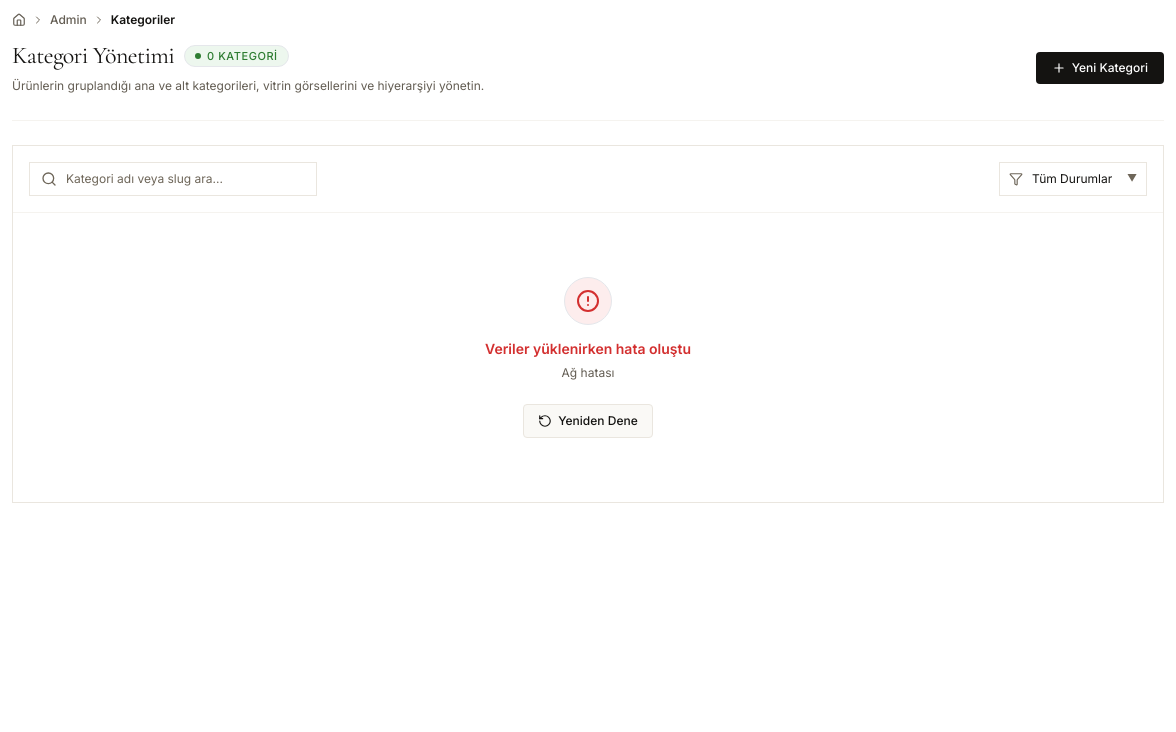
Scenario: AdminCategoriesPage Component (Phase 2.4) › renders error state and retries fetching on button click
Expected: the text "Ağ hatası" is shown, [562, 364, 614, 380]
Click the button "Yeniden Dene": (588, 421) [523, 404, 653, 438]
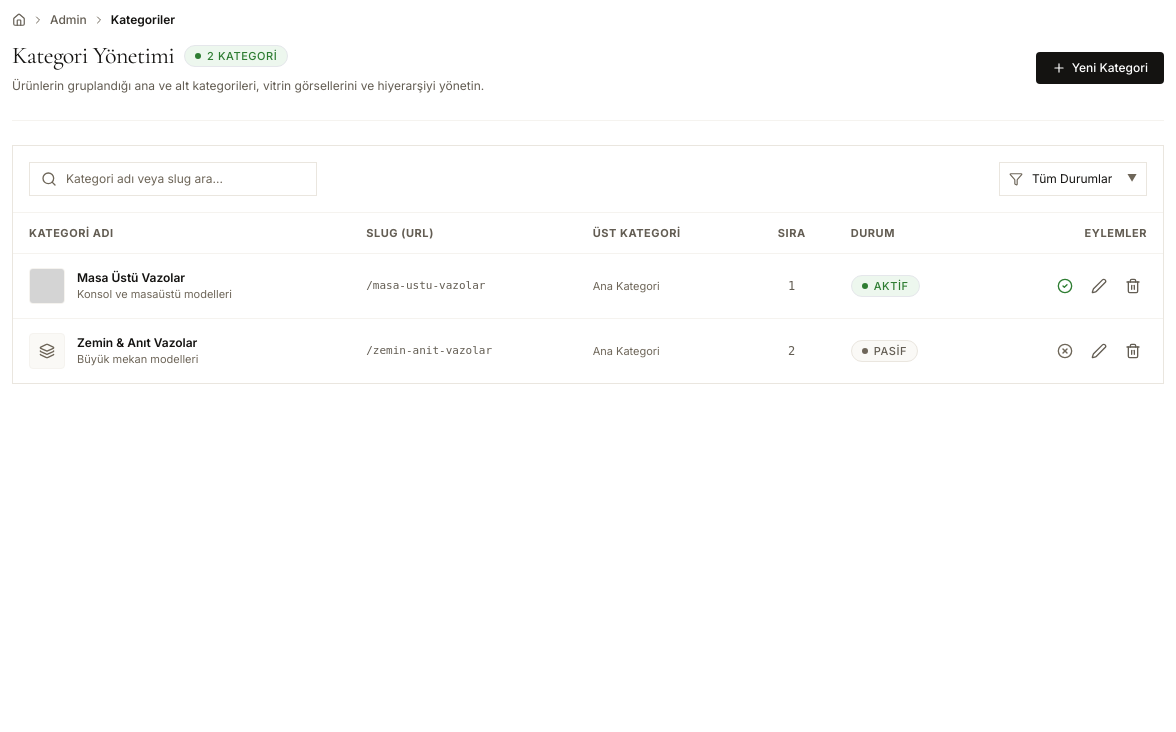
Now the text "Masa Üstü Vazolar" is shown, box [77, 270, 185, 284]
